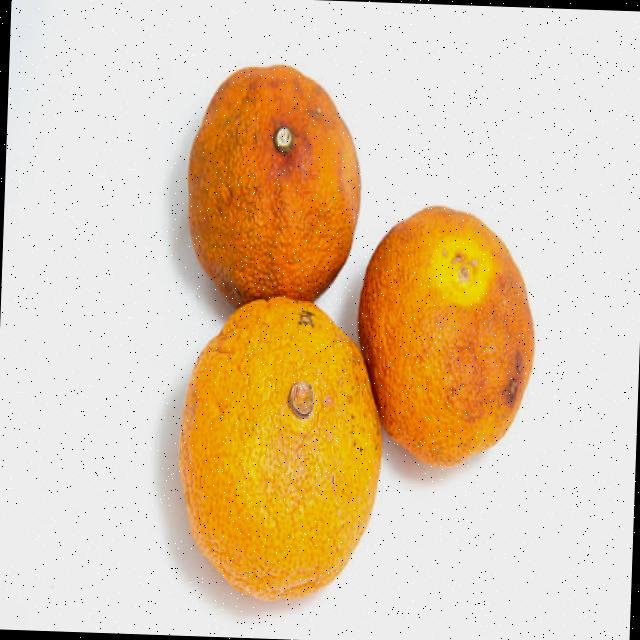overripe: (170, 294, 389, 608), (349, 196, 542, 476), (181, 58, 371, 306)
